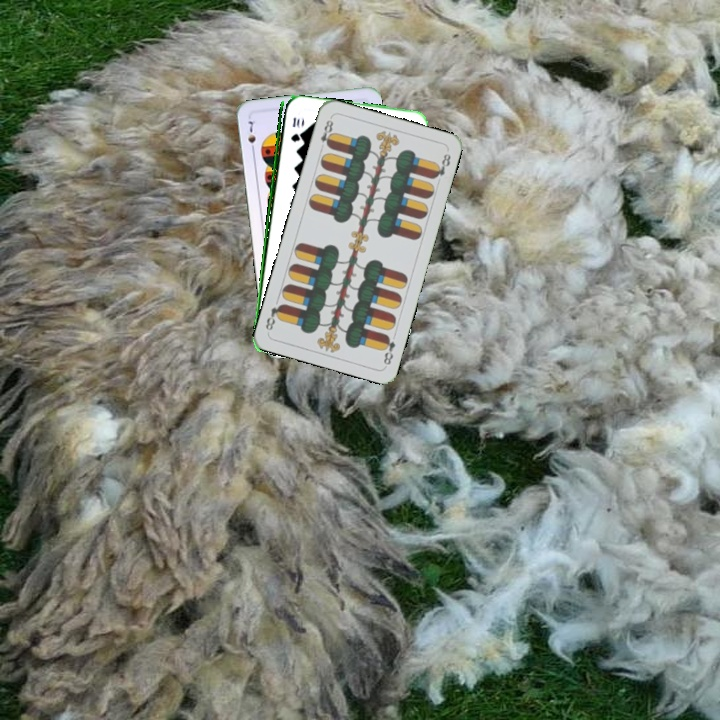E8: (316, 114, 336, 153), (378, 331, 398, 368)
G10: (287, 113, 302, 144)
S7: (244, 115, 258, 155)
